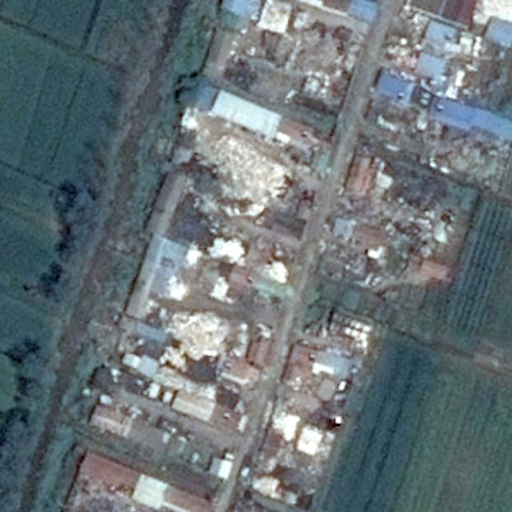msw: (196, 132, 290, 218), (162, 304, 235, 361)
